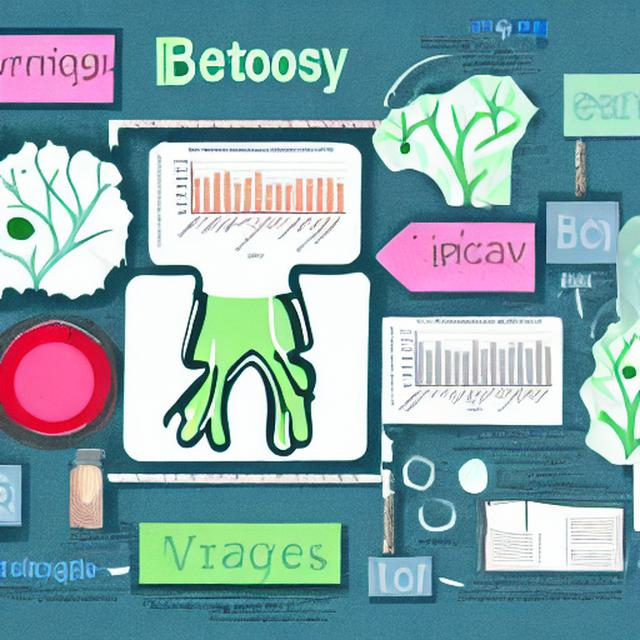Graph: (152, 147, 349, 263), (385, 319, 559, 416)
